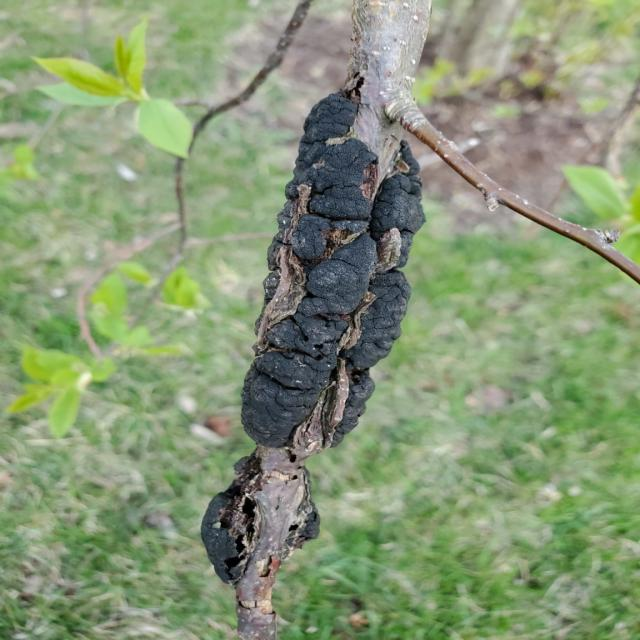Black_knot: (200, 90, 426, 588)
